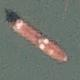ship: (0, 0, 32, 27)
